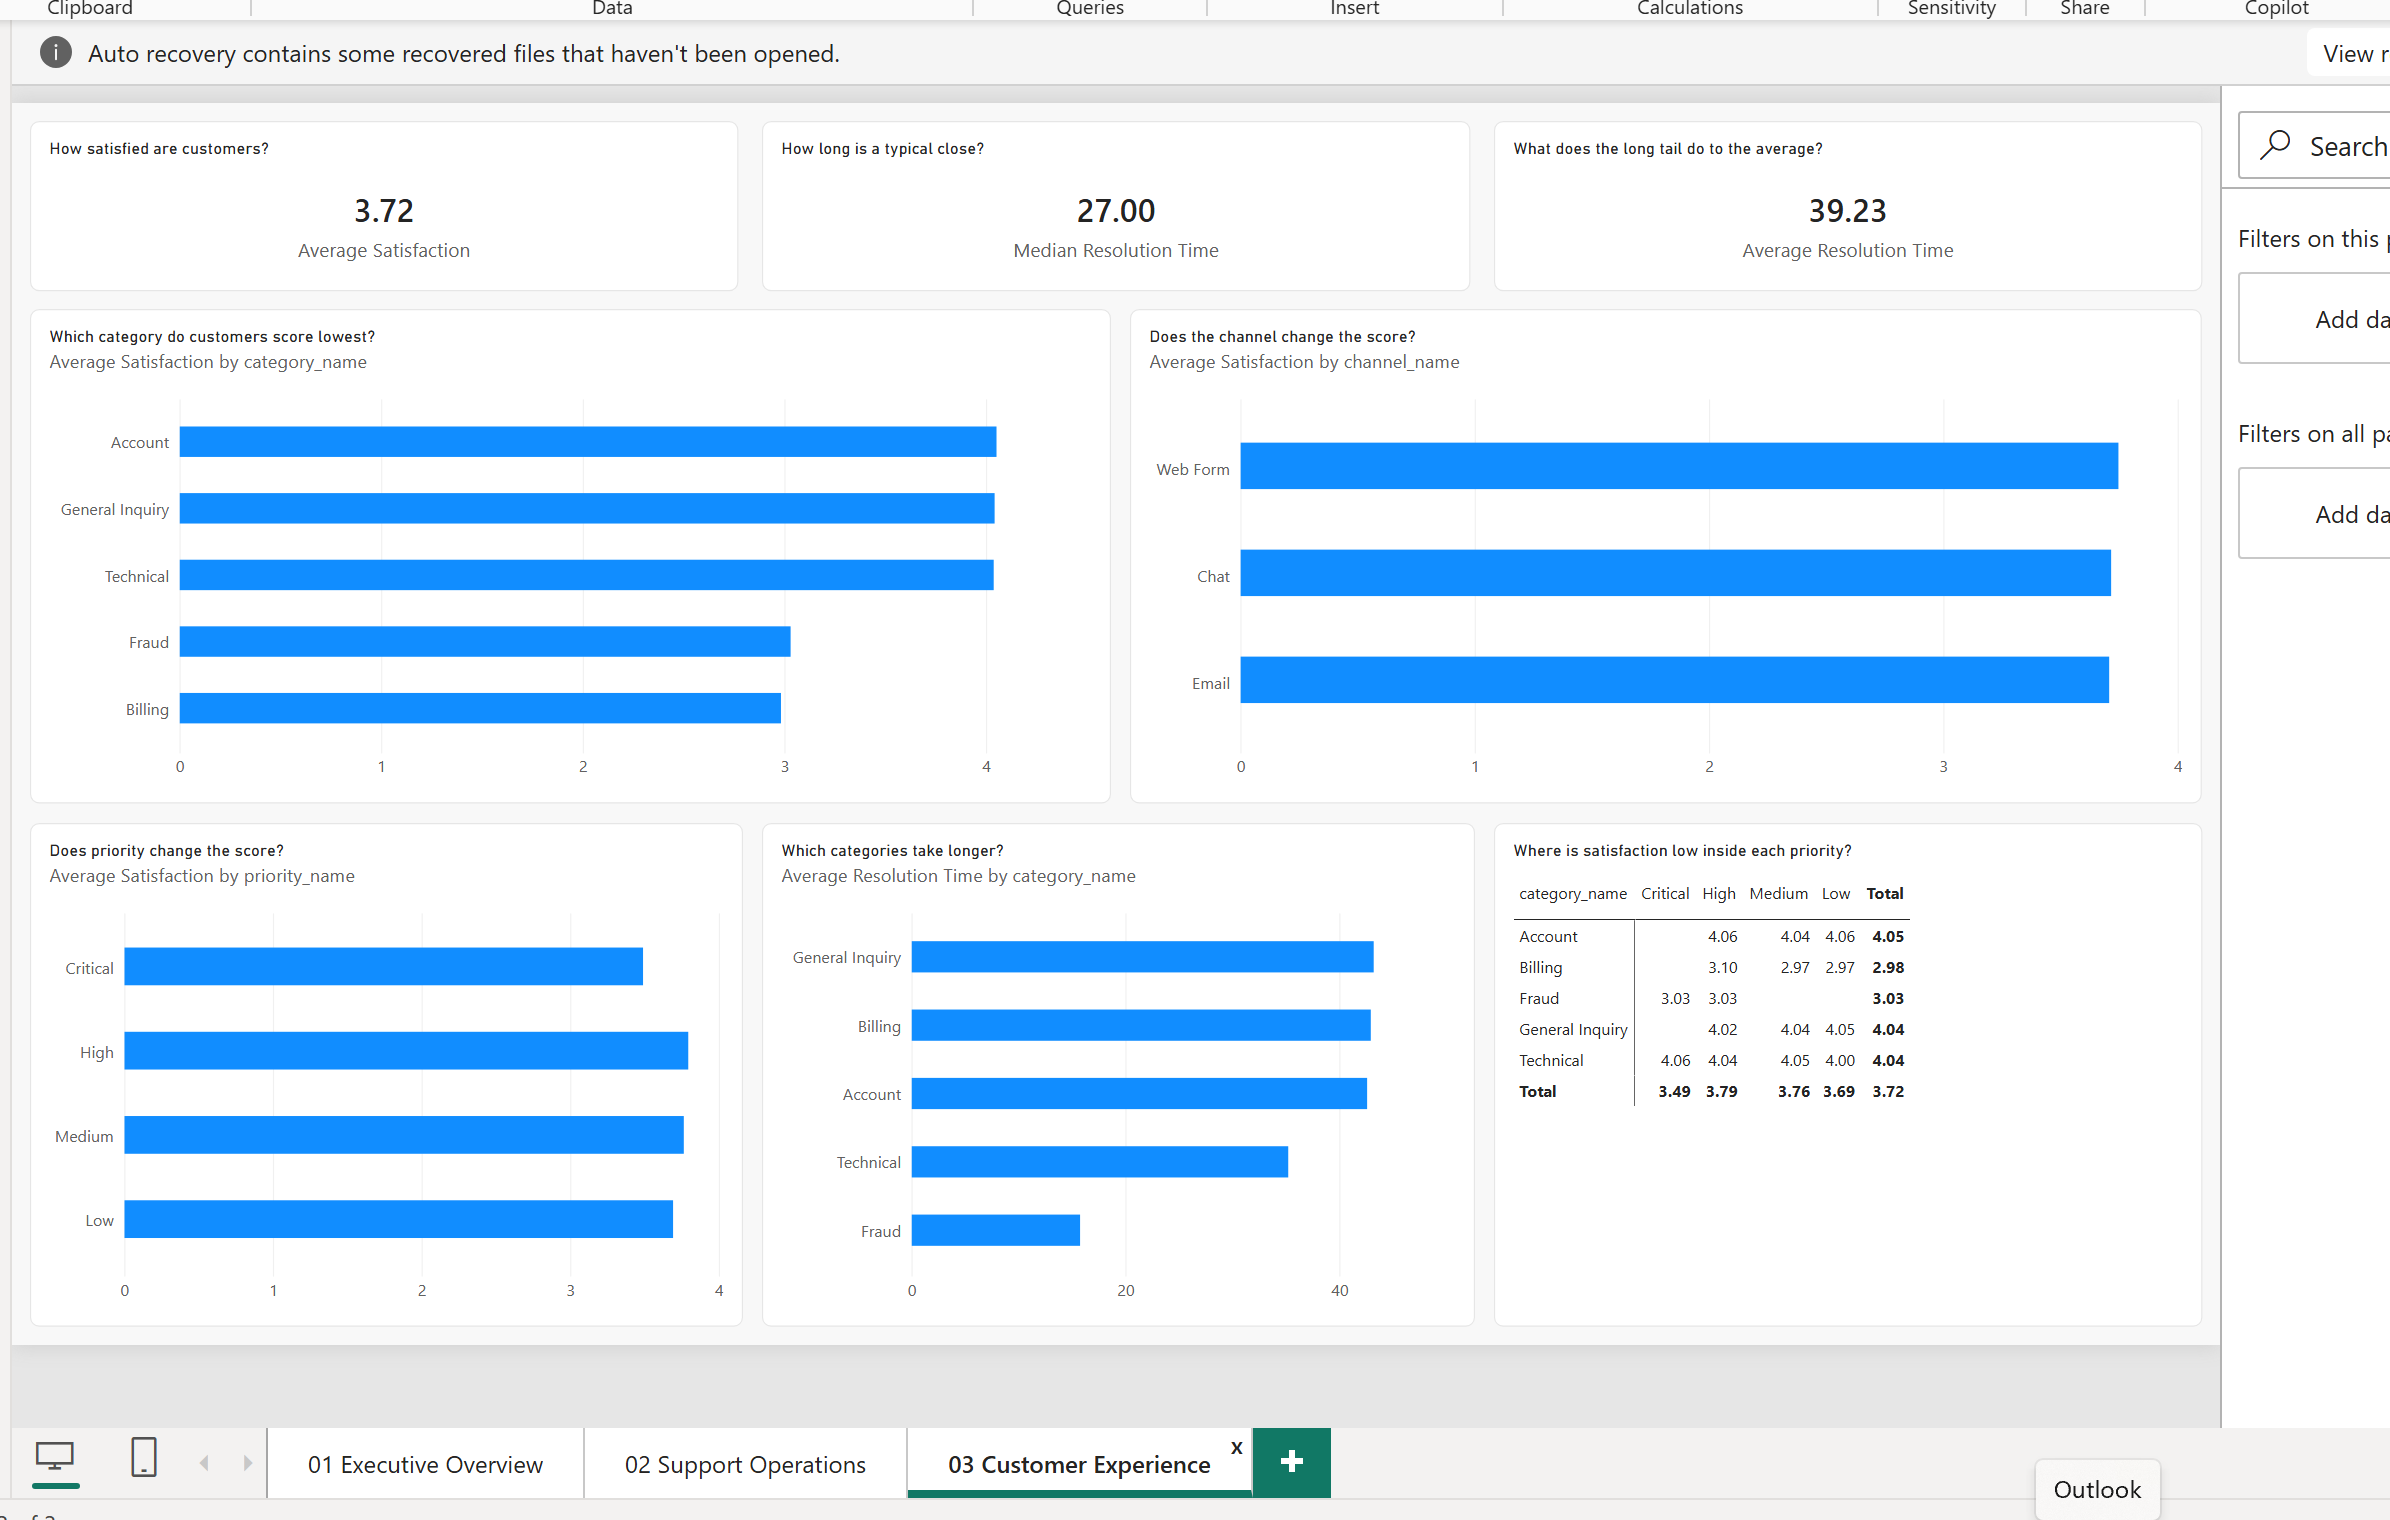

Layout of this report page (visuals, bound fields, positions):
{"tool":"powerbi","page":{"name":"03 Customer Experience","canvas":[1920,1080],"ordinal":2},"visuals":[{"type":"card","title":"How satisfied are customers?","fields":{"Values":["fact_tickets.Average Satisfaction"]},"box":[16,16,616,148],"z":0},{"type":"card","title":"How long is a typical close?","fields":{"Values":["fact_tickets.Median Resolution Time"]},"box":[652,16,616,148],"z":1},{"type":"card","title":"What does the long tail do to the average?","fields":{"Values":["fact_tickets.Average Resolution Time"]},"box":[1288,16,616,148],"z":2},{"type":"clusteredBarChart","title":"Which category do customers score lowest?","fields":{"Category":["dim_category.category_name"],"Y":["fact_tickets.Average Satisfaction"]},"box":[16,180,940,430],"z":10},{"type":"clusteredBarChart","title":"Does the channel change the score?","fields":{"Category":["dim_channel.channel_name"],"Y":["fact_tickets.Average Satisfaction"]},"box":[972,180,932,430],"z":11},{"type":"clusteredBarChart","title":"Does priority change the score?","fields":{"Category":["dim_priority.priority_name"],"Y":["fact_tickets.Average Satisfaction"]},"box":[16,626,620,438],"z":12},{"type":"clusteredBarChart","title":"Which categories take longer?","fields":{"Category":["dim_category.category_name"],"Y":["fact_tickets.Average Resolution Time"]},"box":[652,626,620,438],"z":13},{"type":"pivotTable","title":"Where is satisfaction low inside each priority?","fields":{"Rows":["dim_category.category_name"],"Columns":["dim_priority.priority_name"],"Values":["fact_tickets.Average Satisfaction"]},"box":[1288,626,616,438],"z":14}]}

Visuals, with their boxes on the page's 1920x1080 design canvas (x1, y1, x2, y2). These are canvas units, not pixel positions in the 2390x1520 screenshot, which may show the page scaled, cropped or inside an application window:
"How satisfied are customers?" card: box=[16, 16, 632, 164]
"How long is a typical close?" card: box=[652, 16, 1268, 164]
"What does the long tail do to the average?" card: box=[1288, 16, 1904, 164]
"Which category do customers score lowest?" clusteredBarChart: box=[16, 180, 956, 610]
"Does the channel change the score?" clusteredBarChart: box=[972, 180, 1904, 610]
"Does priority change the score?" clusteredBarChart: box=[16, 626, 636, 1064]
"Which categories take longer?" clusteredBarChart: box=[652, 626, 1272, 1064]
"Where is satisfaction low inside each priority?" pivotTable: box=[1288, 626, 1904, 1064]
